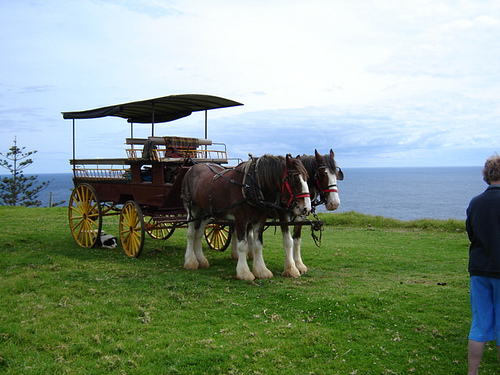horse: (179, 153, 311, 283), (234, 149, 344, 280)
